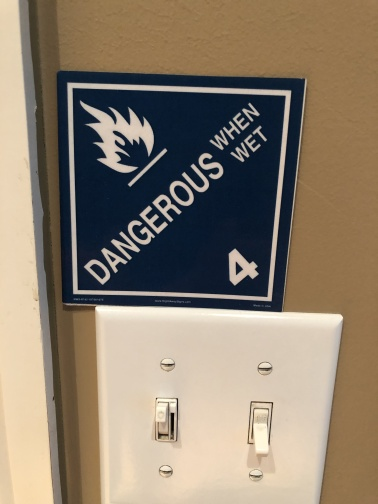DangerousWhenWet: (61, 76, 280, 305)
